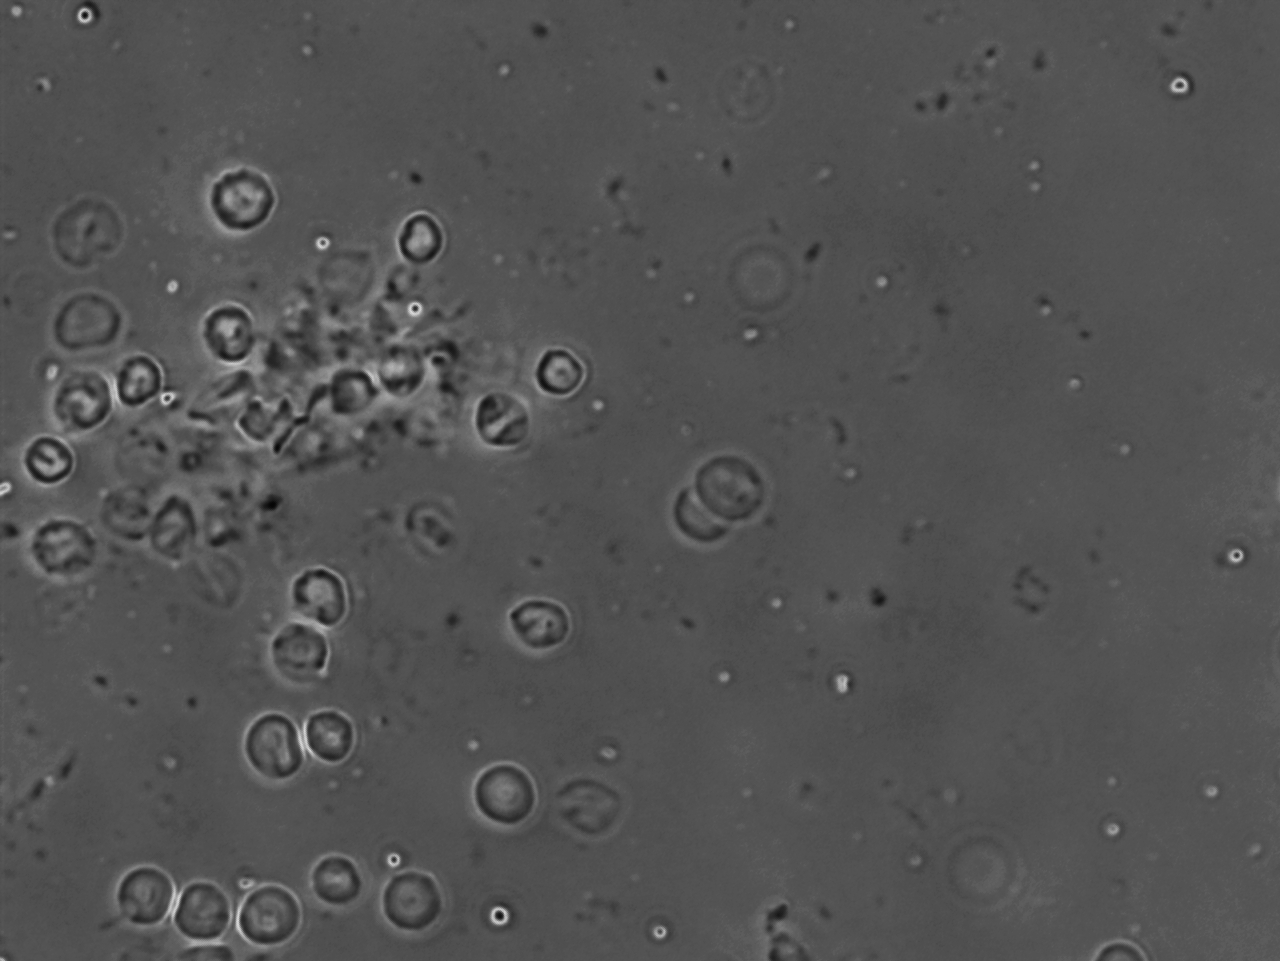depth:0: (231, 706, 320, 791), (466, 747, 548, 836), (369, 860, 450, 940), (165, 865, 241, 947), (236, 875, 312, 955), (105, 856, 180, 932)
